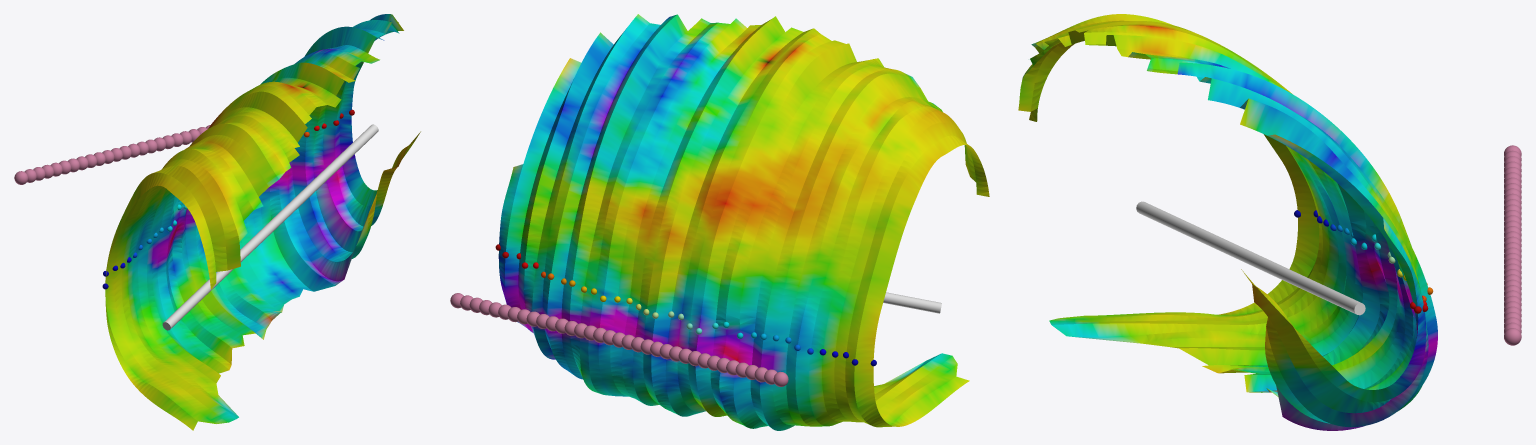
File: RainbowZeroBlack_data_vole_65_7E_id2_L23.gltf
3 renders of one model, left to right at view 1: azimuth 30°, elevation 25°; view 2: azimuth 150°, elevation 25°; view 3: azimuth 270°, elevation 25°, orthographic. The views are drawn at different scales.
Bounding box in the file's own units: 3.54 × 3.45 × 3.96.
